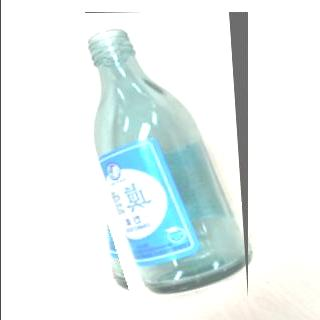bottle: (83, 11, 247, 299)
